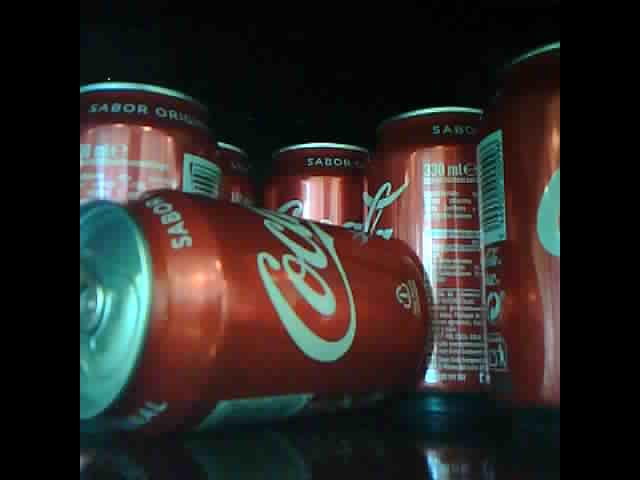coca cola: (80, 187, 440, 437), (360, 105, 482, 396), (480, 33, 559, 408), (78, 77, 221, 212), (260, 141, 365, 227), (210, 139, 252, 204)
